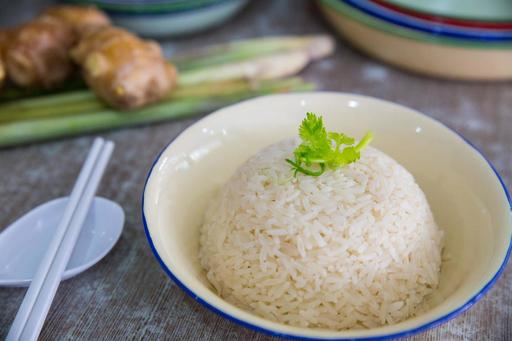plain rice: (204, 130, 443, 312)
